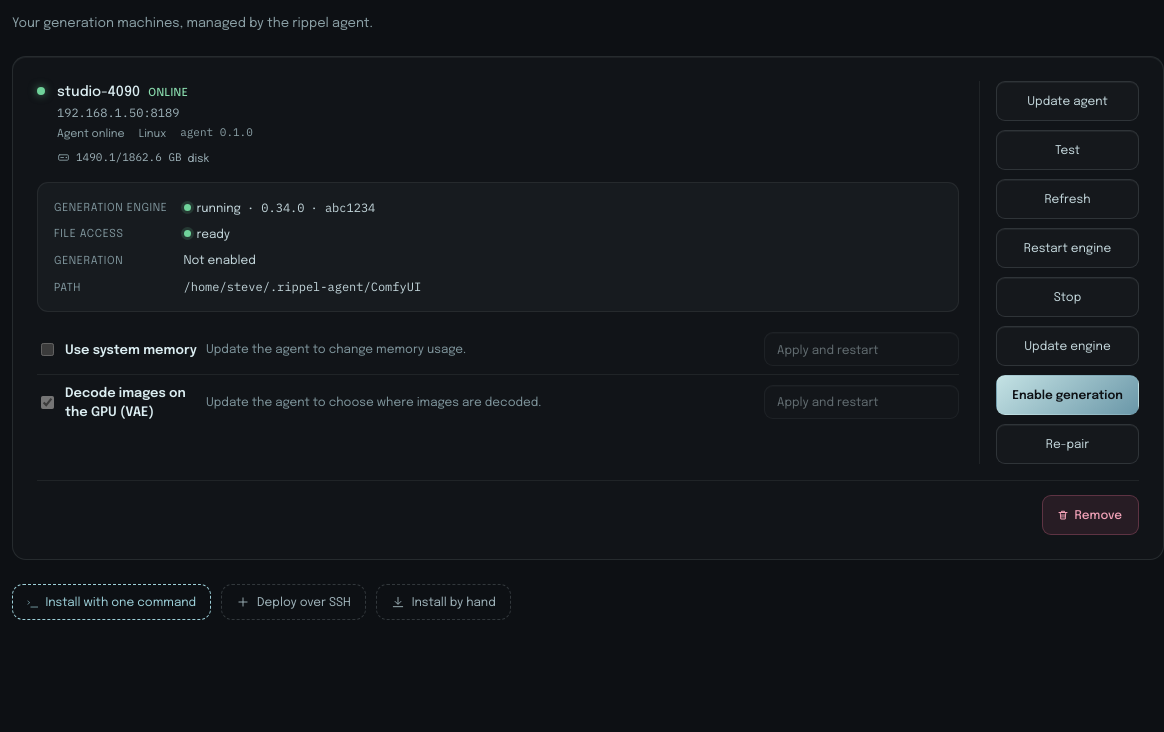
Test: DeploymentsSection › reports a failed action without losing the card
Click the button "Refresh" at (1068, 199), box [996,179,1139,219]
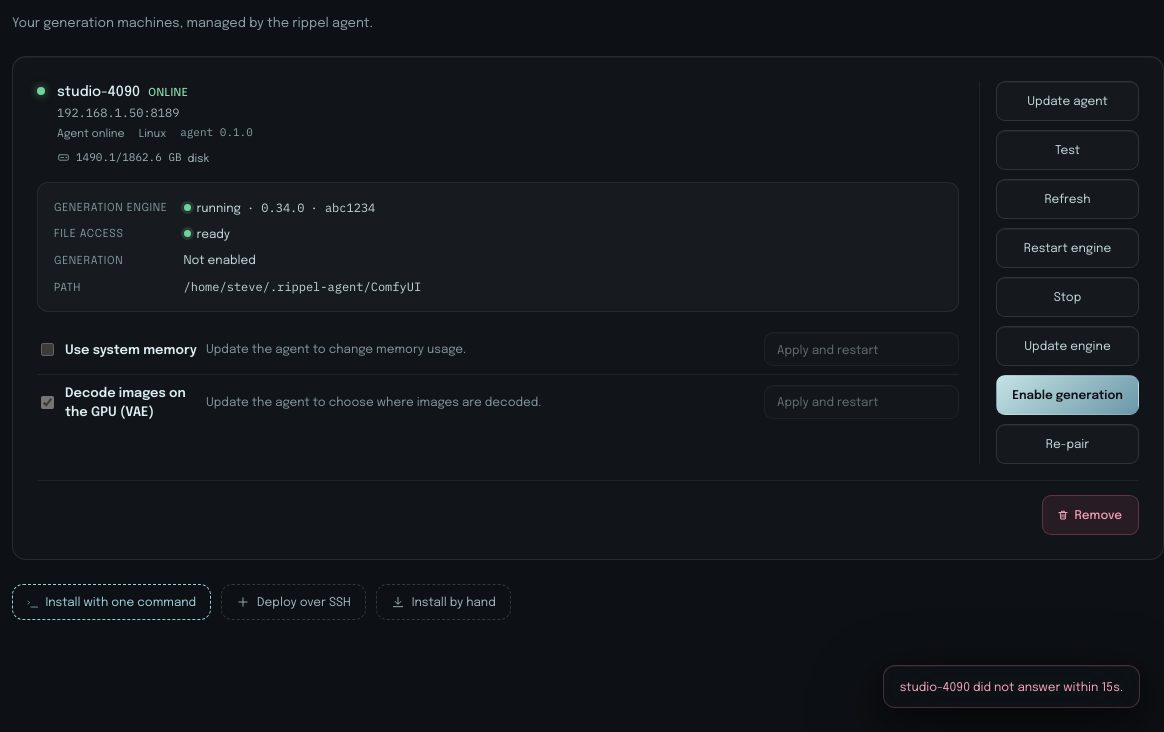
Expected: the text "studio-4090" is shown, [57,83,140,98]
Result: the text "studio-4090 did not answer within 15s." is shown at [883,665,1140,708]
